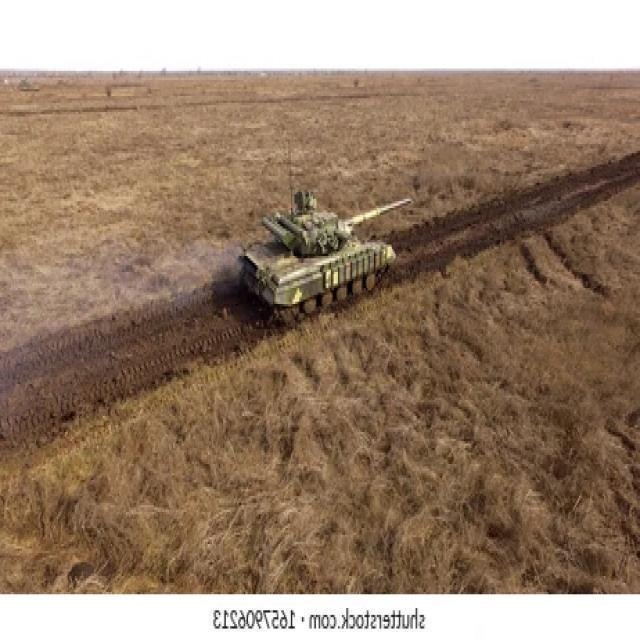Tanks: (238, 188, 412, 332)
